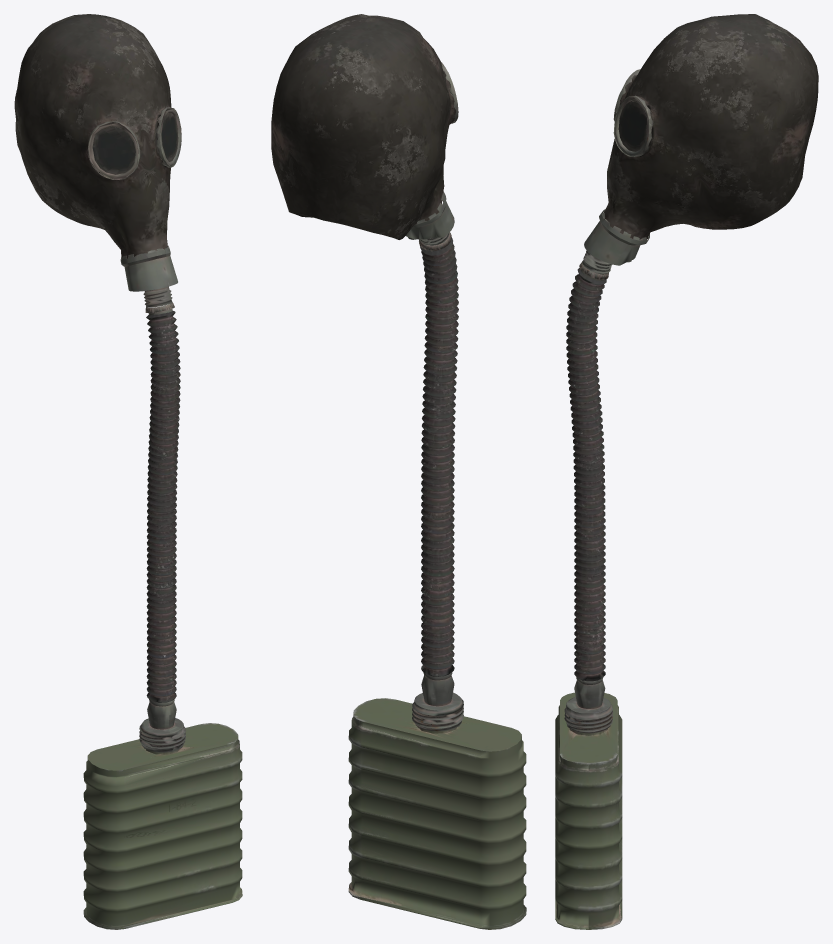
File: old-gas-mask.glb
The picture shows the model from 3 angles, left to right: view 1: azimuth 30°, elevation 25°; view 2: azimuth 150°, elevation 25°; view 3: azimuth 270°, elevation 25°; orthographic projection. The views are drawn at different scales.
Visible parts, largest first — view 1: old_gas_mask; view 2: old_gas_mask; view 3: old_gas_mask.
Boxes of the visible parts, x1,y1,x2,y2 form: old_gas_mask: [14, 14, 242, 929]; old_gas_mask: [271, 14, 526, 929]; old_gas_mask: [555, 14, 818, 929].
Bounding box in the file's own units: 0.2105 × 1.13 × 0.3087.
1 material, 1 textured.
